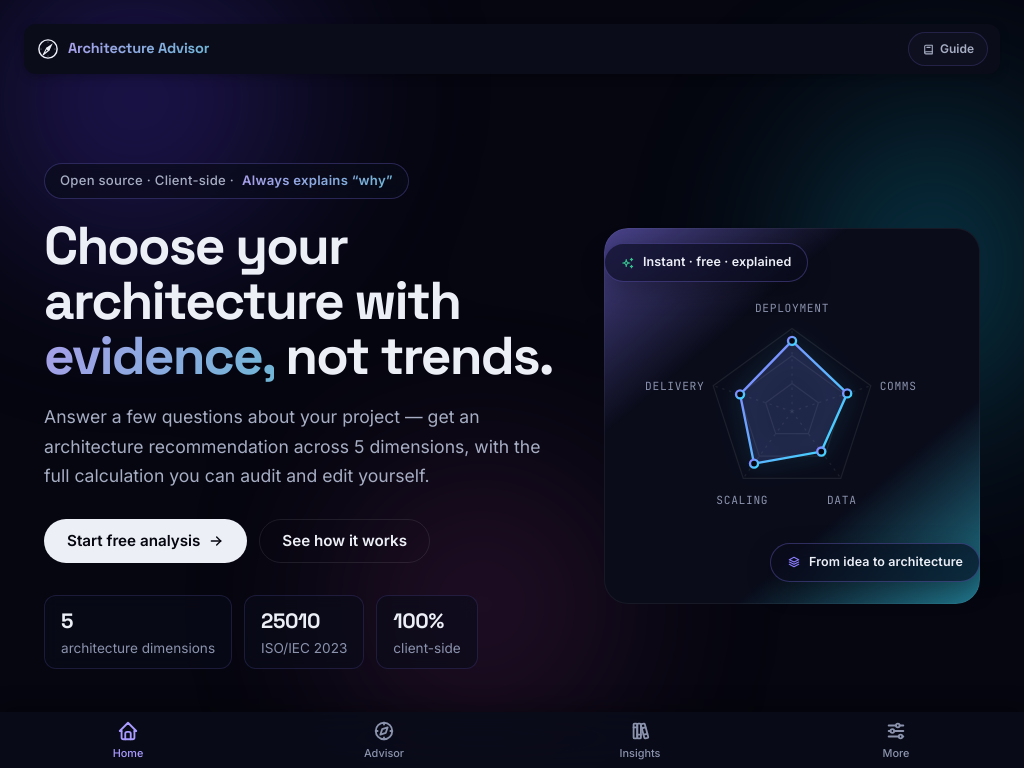
Scenario: Accessibility (AC-15) — axe-core, WCAG A/AA › no violations in the Manual/Guide with the detailed architecture explanations (lazy-loaded)
This screenshot has width=1024, height=768.
Click the button "Guide". click: [948, 49]
box: [908,32,988,66]
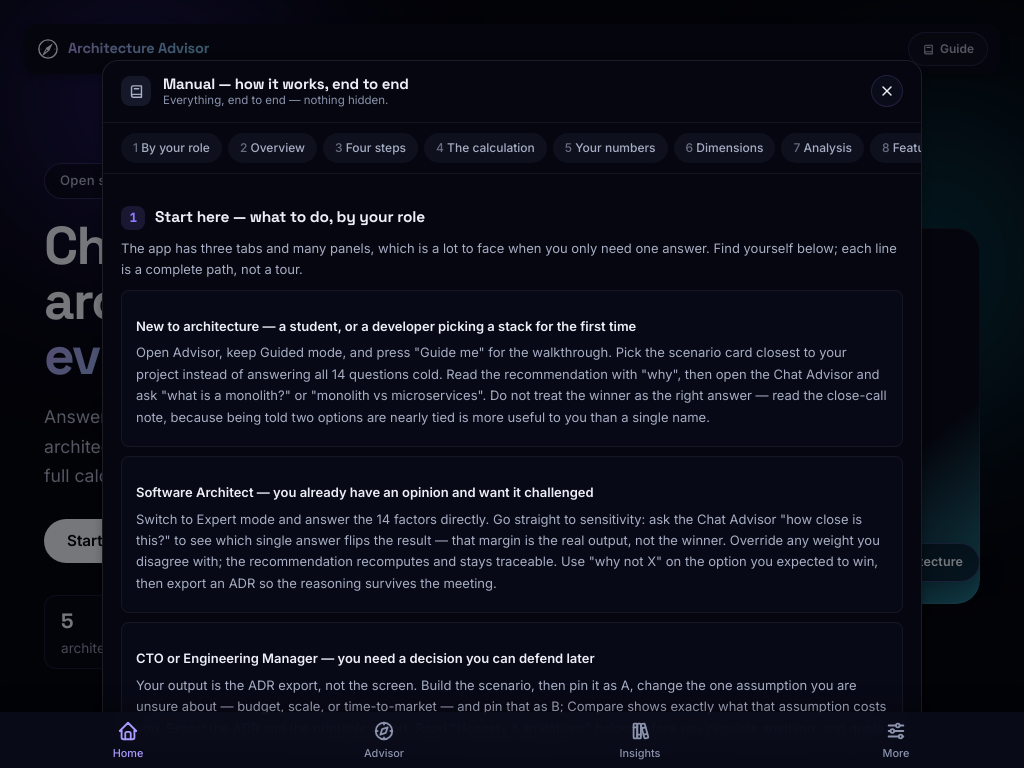
Result: the dialog "Manual" is shown
